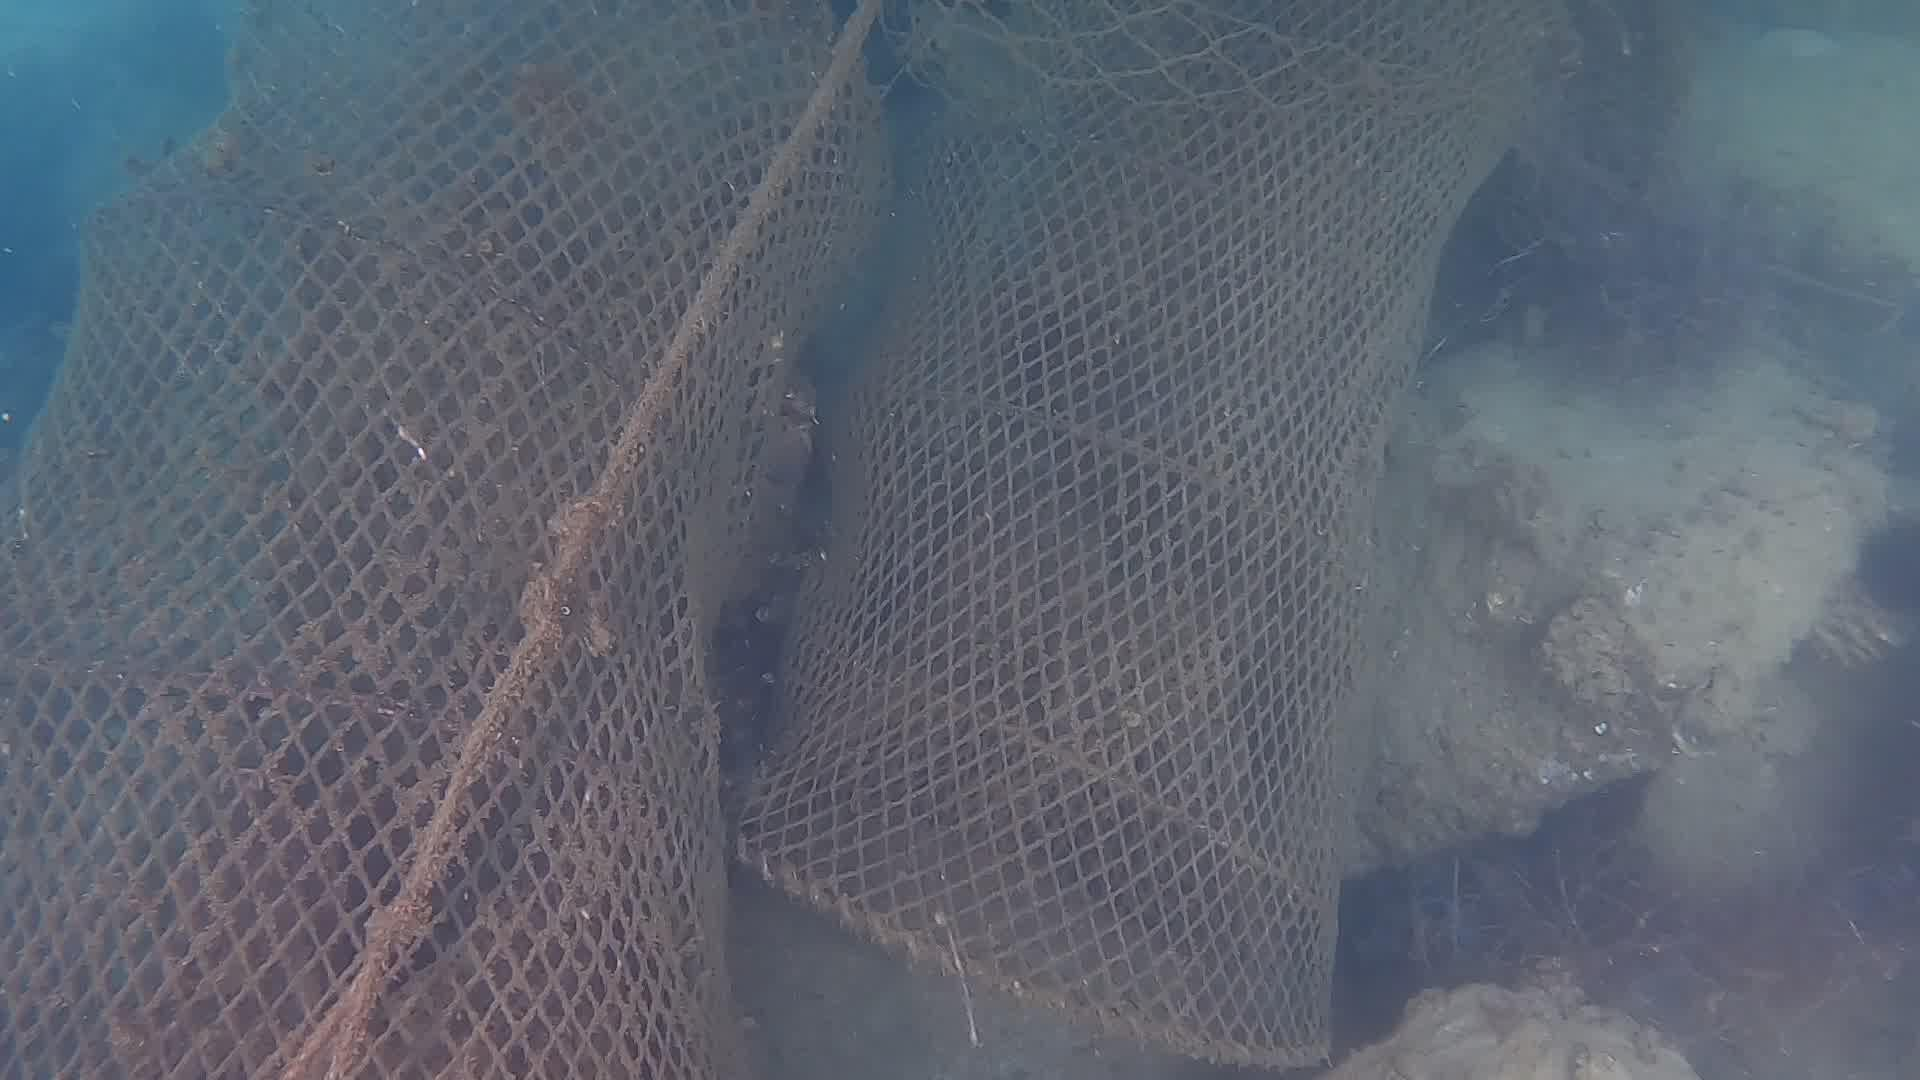rope: (269, 0, 876, 1080)
spring fish trap: (3, 5, 887, 1080), (719, 9, 1536, 1072)
